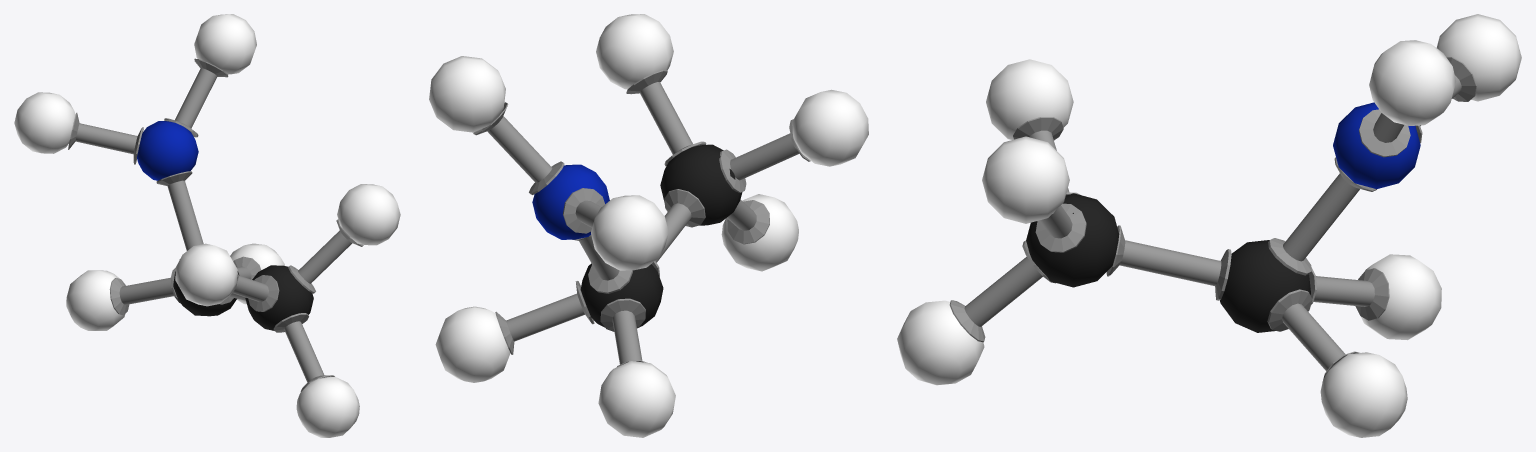
Rendered from Nosecomosellamaesto.fbx.
The picture shows the model from 3 angles, left to right: view 1: azimuth 30°, elevation 25°; view 2: azimuth 150°, elevation 25°; view 3: azimuth 270°, elevation 25°; orthographic projection. The views are drawn at different scales.
Visible parts, largest first — view 1: Sphere003, Sphere004, Sphere002, Sphere007, Sphere010, Sphere006, Sphere009, Sphere001, Cylinder013, Cylinder015, Cylinder018, Cylinder019 (+6 smaller); view 2: Sphere007, Sphere010, Sphere009, Sphere003, Sphere008, Sphere002, Sphere001, Sphere004, Sphere006, Sphere005, Cylinder017, Cylinder011 (+7 smaller); view 3: Sphere002, Sphere008, Sphere010, Sphere004, Sphere005, Sphere003, Sphere007, Sphere001, Sphere009, Sphere006, Cylinder014, Cylinder015 (+7 smaller).
Boxes of the visible parts, x1=… form: Sphere003: x1=175, y1=243, x2=237, y2=306; Sphere004: x1=296, y1=376, x2=359, y2=437; Sphere002: x1=337, y1=184, x2=400, y2=245; Sphere007: x1=14, y1=92, x2=75, y2=153; Sphere010: x1=194, y1=14, x2=256, y2=74; Sphere006: x1=137, y1=121, x2=198, y2=180; Sphere009: x1=66, y1=270, x2=125, y2=330; Sphere001: x1=245, y1=265, x2=313, y2=331; Cylinder013: x1=273, y1=313, x2=334, y2=391; Cylinder015: x1=156, y1=171, x2=203, y2=259; Cylinder018: x1=109, y1=267, x2=180, y2=315; Cylinder019: x1=164, y1=58, x2=228, y2=137; Sphere007: x1=591, y1=195, x2=668, y2=270; Sphere010: x1=429, y1=56, x2=505, y2=132; Sphere009: x1=598, y1=361, x2=675, y2=437; Sphere003: x1=792, y1=89, x2=868, y2=166; Sphere008: x1=435, y1=306, x2=510, y2=382; Sphere002: x1=596, y1=14, x2=673, y2=89; Sphere001: x1=660, y1=144, x2=742, y2=225; Sphere004: x1=721, y1=194, x2=798, y2=271; Sphere006: x1=532, y1=164, x2=609, y2=239; Sphere005: x1=580, y1=263, x2=663, y2=328; Cylinder017: x1=495, y1=281, x2=594, y2=354; Cylinder011: x1=626, y1=70, x2=706, y2=166; Sphere002: x1=982, y1=136, x2=1069, y2=223; Sphere008: x1=1320, y1=352, x2=1407, y2=437; Sphere010: x1=1369, y1=40, x2=1455, y2=125; Sphere004: x1=897, y1=300, x2=984, y2=385; Sphere005: x1=1220, y1=240, x2=1310, y2=332; Sphere003: x1=986, y1=59, x2=1073, y2=140; Sphere007: x1=1436, y1=14, x2=1521, y2=101; Sphere001: x1=1026, y1=193, x2=1119, y2=287; Sphere009: x1=1361, y1=254, x2=1441, y2=340; Sphere006: x1=1333, y1=102, x2=1420, y2=188; Cylinder014: x1=1106, y1=225, x2=1231, y2=300; Cylinder015: x1=1268, y1=157, x2=1376, y2=275.
Bounding box in the file's own units: 19.97 × 23.77 × 35.02.
